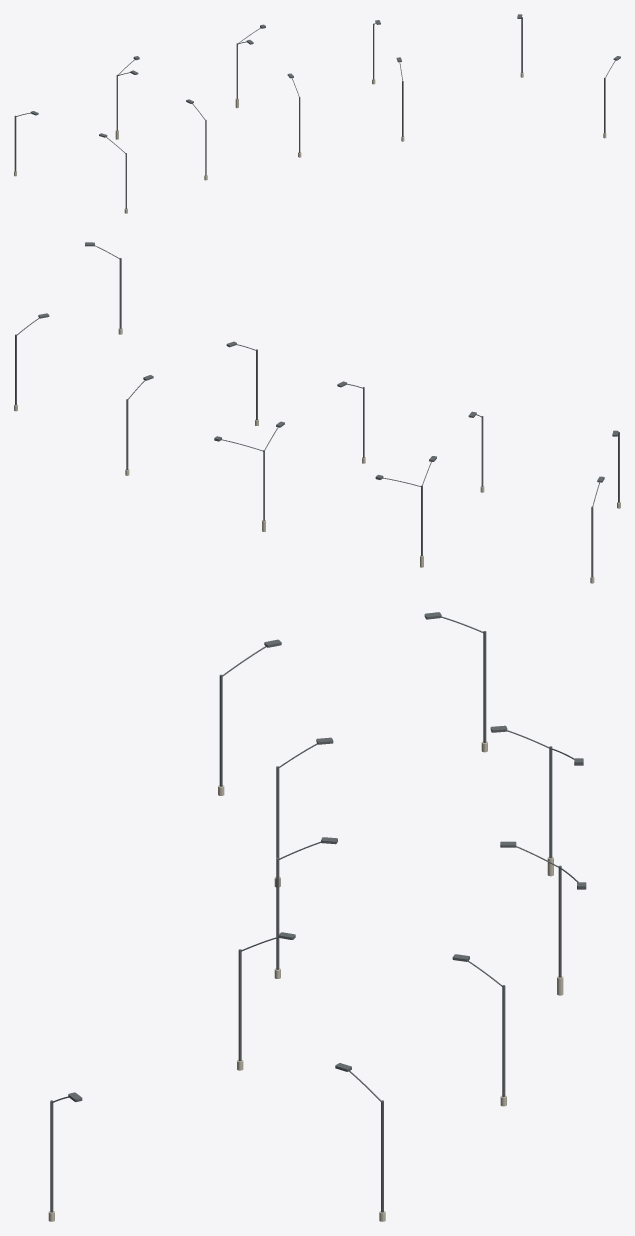
3 renders of one model, top to bottom at view 1: azimuth 30°, elevation 25°; view 2: azimuth 150°, elevation 25°; view 3: azimuth 270°, elevation 25°, orthographic. The views are drawn at different scales.
Visible parts, largest first — view 1: buildings_s_-1_-6_Dark_Metal; view 2: buildings_s_-1_-6_Dark_Metal; view 3: buildings_s_-1_-6_Dark_Metal, buildings_s_-1_-6_Warm_Limestone.
Part boxes in pixels (x1,y1,x2,y2): buildings_s_-1_-6_Dark_Metal: [14, 14, 620, 208]; buildings_s_-1_-6_Dark_Metal: [15, 242, 619, 577]; buildings_s_-1_-6_Dark_Metal: [50, 612, 586, 1212]; buildings_s_-1_-6_Warm_Limestone: [48, 741, 563, 1221].
Size of the model in its own units: 124 by 17.75 by 57.11.
